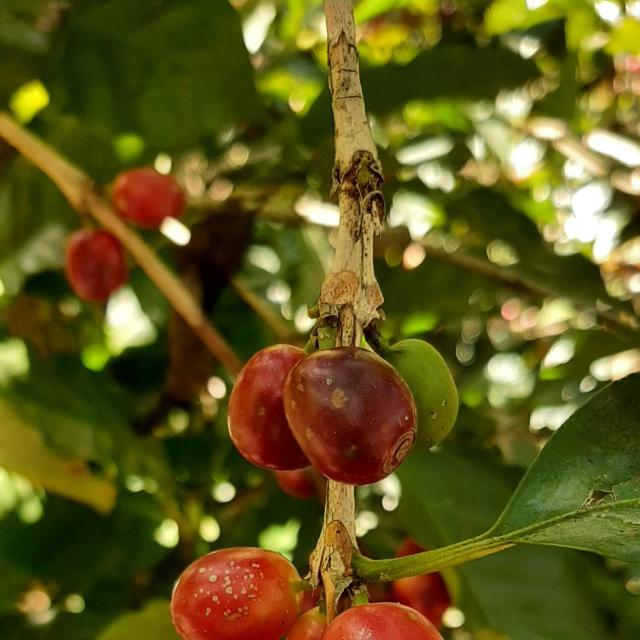green: (382, 339, 459, 450)
red: (282, 347, 418, 486), (170, 548, 302, 640), (227, 345, 311, 472), (64, 230, 127, 304), (111, 168, 185, 229), (322, 604, 444, 640)
